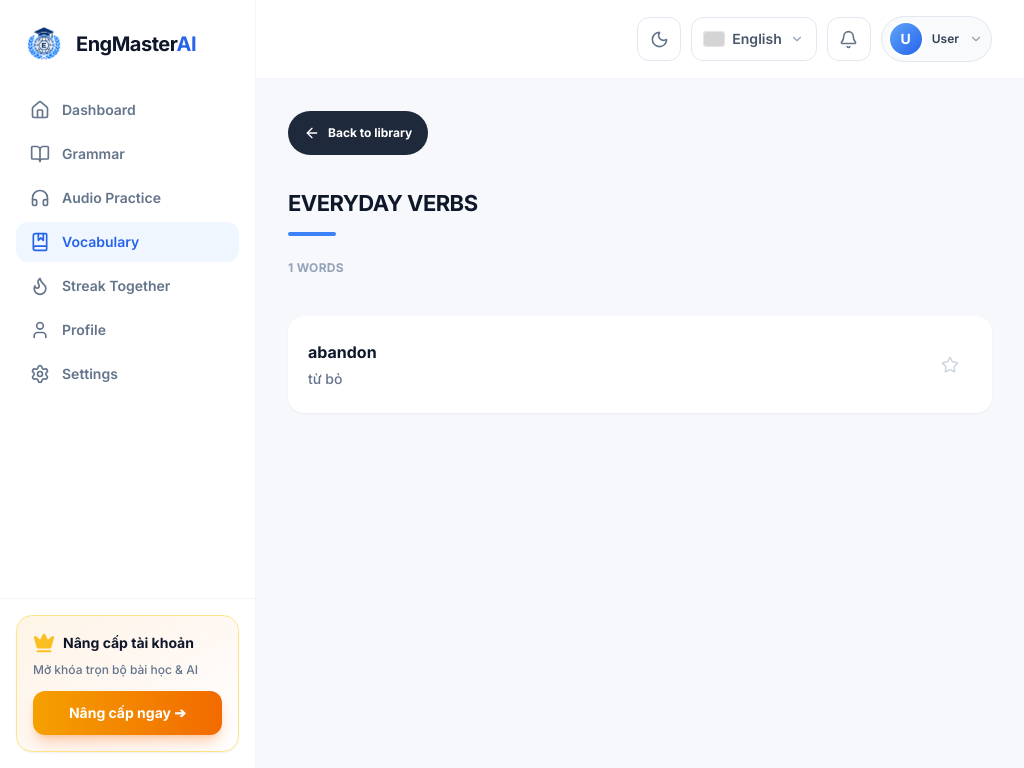
Test: DeckDetailPage — universal save-star › shows an unsaved star for a word not yet in My Vocabulary, and saves it on click
The width and height of the screenshot is (1024, 768).
Expected: the heading "abandon" is shown, [308,340,377,364]
Click the button named "Save to My Vocabulary" at (950, 364), box [928,342,972,386]
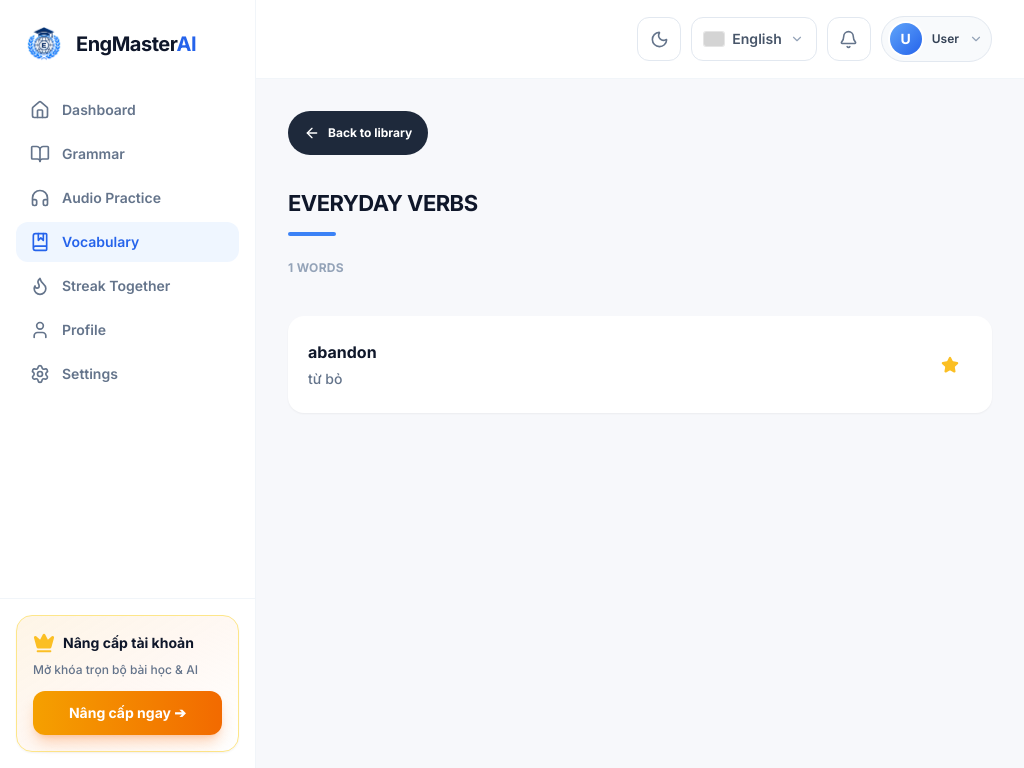
Result: the button named "Remove from My Vocabulary" is shown at [928,342,972,386]
